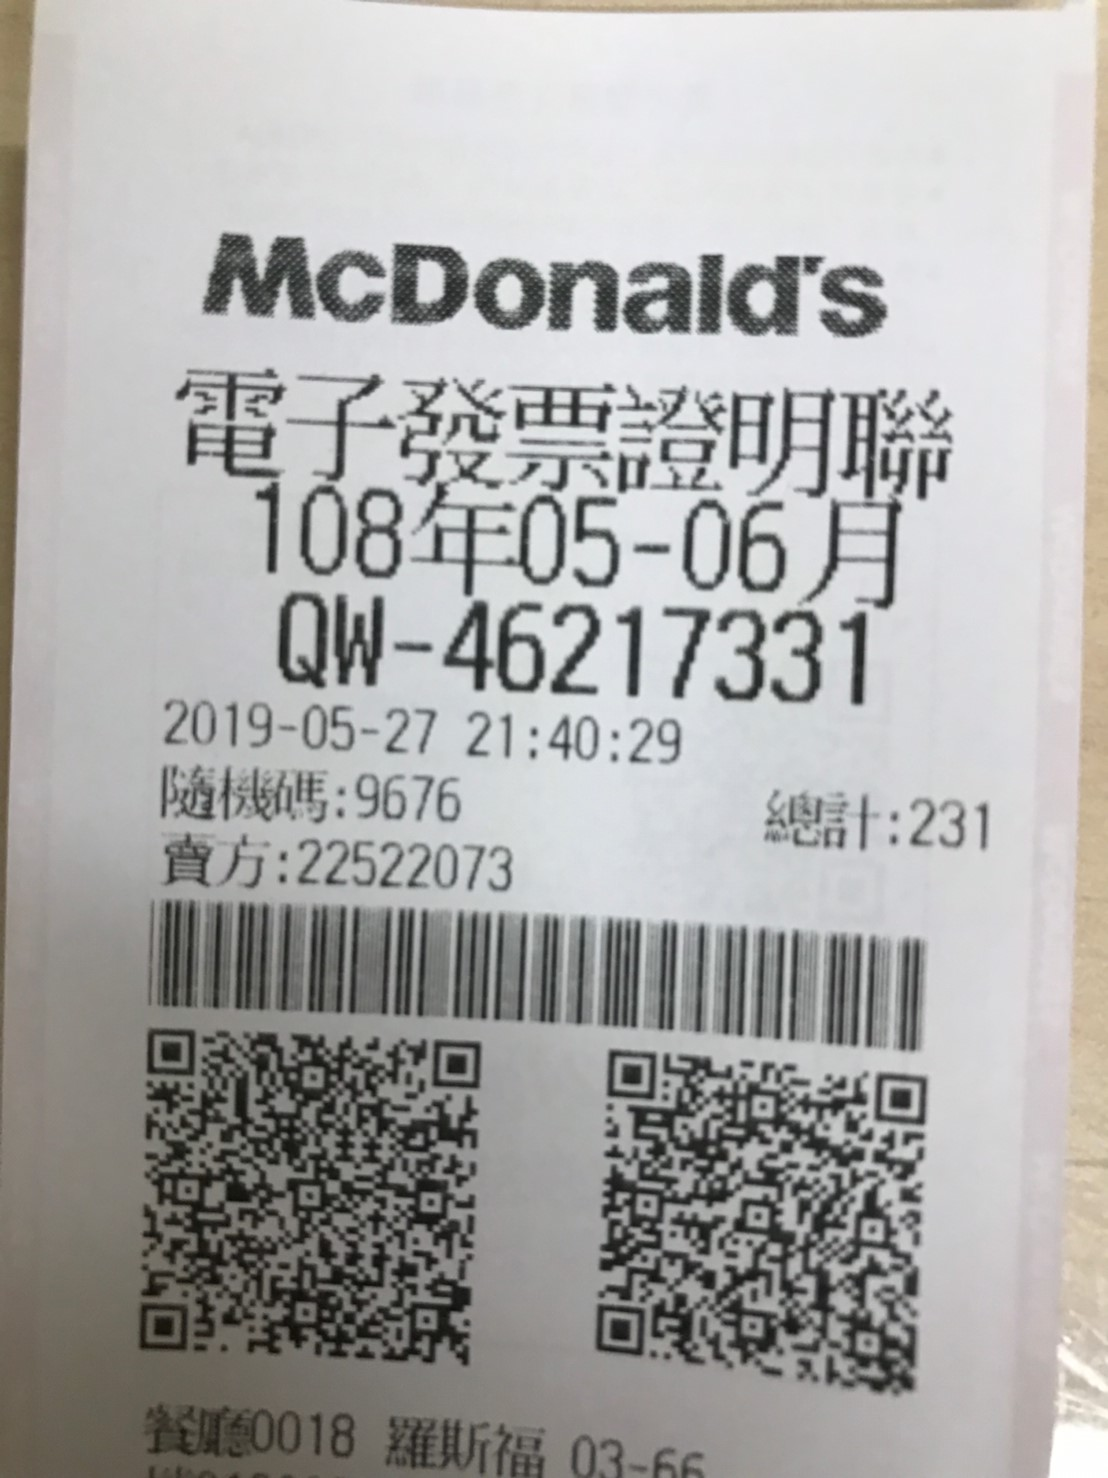Date_New: (254, 475, 905, 614)
Number_New: (445, 597, 882, 708)
